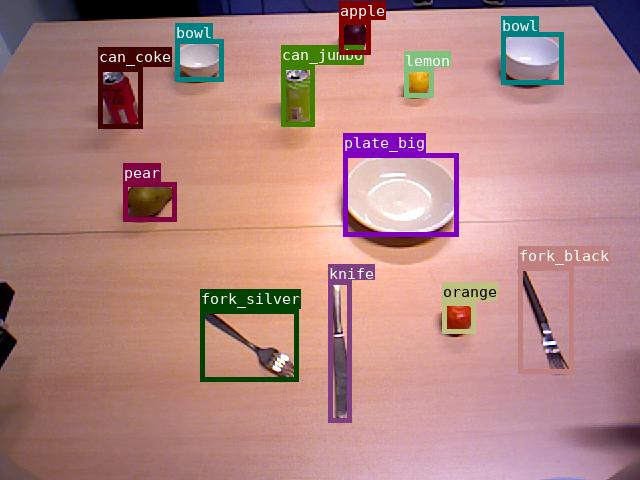apple: (339, 20, 370, 54)
bowl: (501, 32, 563, 84), (175, 39, 223, 81)
can_coke: (98, 67, 142, 128)
can_jumbo: (281, 65, 314, 126)
fork_black: (518, 266, 573, 373)
fork_silver: (200, 309, 298, 381)
knife: (328, 280, 351, 422)
lemon: (404, 67, 433, 97)
orange: (442, 301, 475, 333)
pear: (123, 182, 176, 221)
plate_big: (343, 153, 458, 236)
